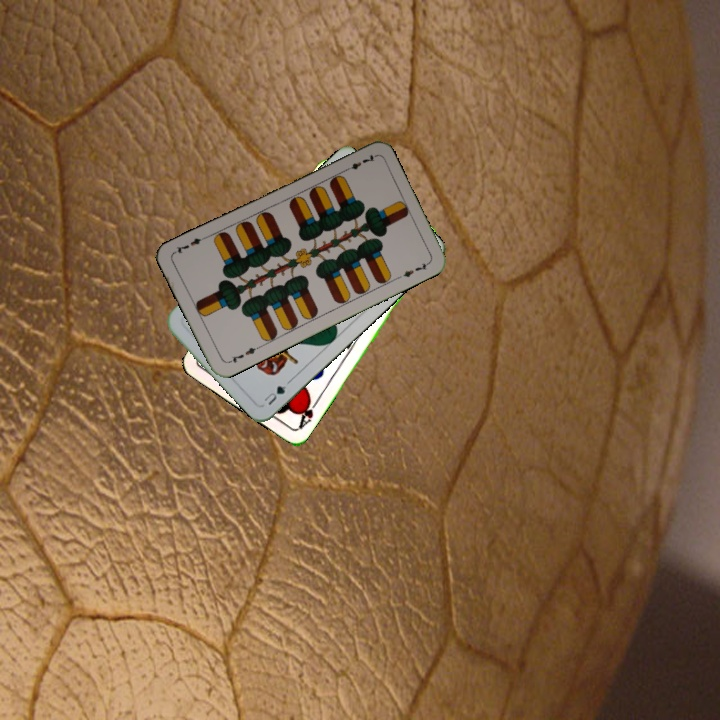E7: (224, 342, 262, 366), (340, 150, 378, 174)
GU: (260, 381, 289, 408)
HA: (294, 394, 321, 432)
